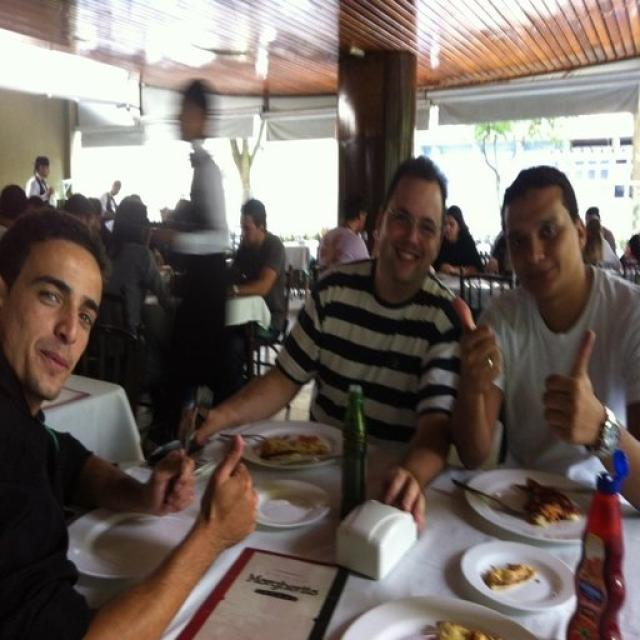Pizza: (517, 478, 580, 526)
